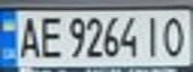2: (84, 13, 106, 60)
4: (118, 12, 142, 59)
6: (103, 14, 124, 58)
9: (63, 13, 87, 60)
A: (15, 12, 42, 60)
E: (36, 12, 63, 60)
I: (139, 12, 166, 60)
O: (160, 14, 190, 58)
